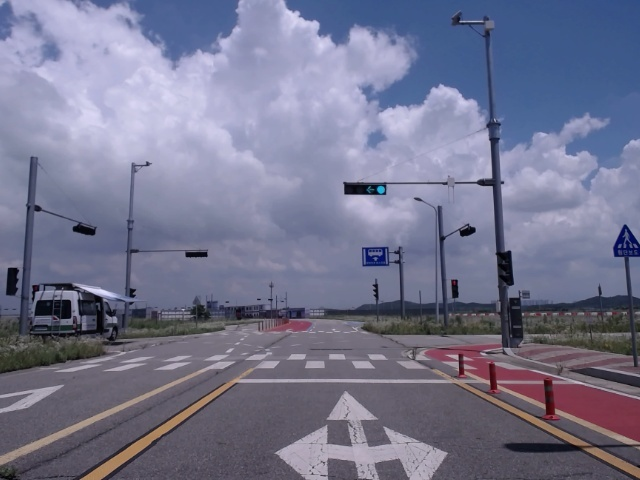all_green_4: (340, 183, 385, 194)
